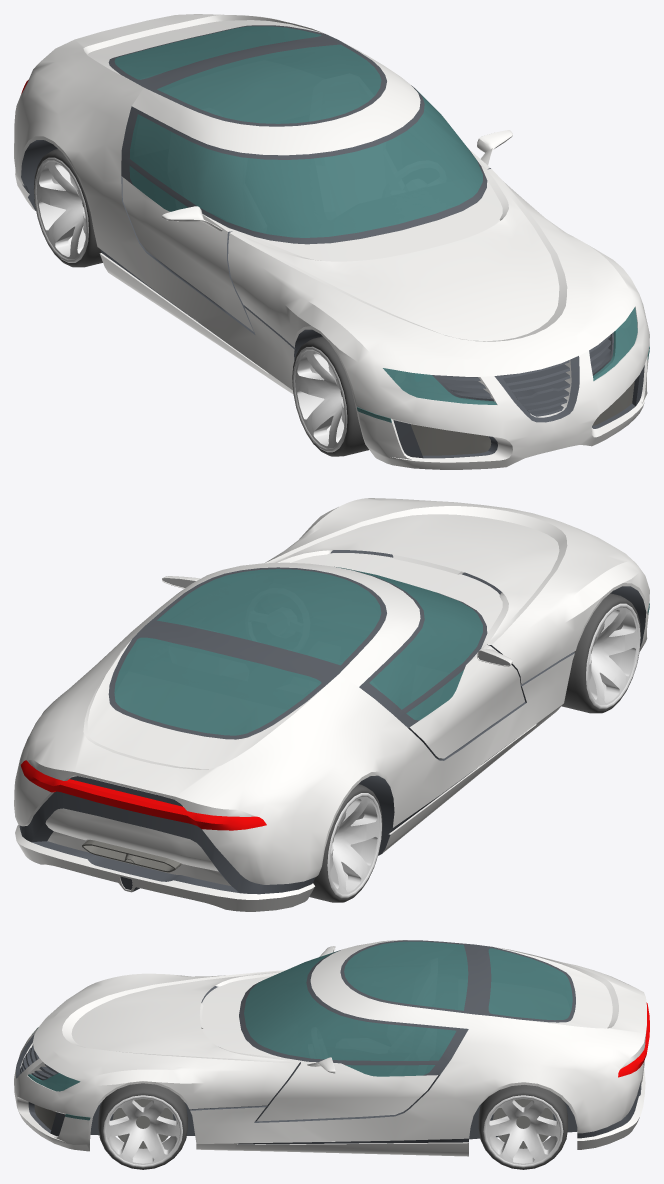
The model's file is SportsVehicle.fbx.
3 views of the same model, one above another, from view 1: azimuth 30°, elevation 25°; view 2: azimuth 150°, elevation 25°; view 3: azimuth 270°, elevation 25° (orthographic). The views are drawn at different scales.
Parts seen in each view (by area): view 1: MainMesh, RightFrontWheel, RightRearWheel; view 2: MainMesh, RightFrontWheel, RightRearWheel, BrakeLight; view 3: MainMesh, LeftFrontWheel, LeftRearWheel, BrakeLight.
Boxes of the visible parts, box(x1,y1,x2,y2) form: MainMesh: box(14, 14, 649, 469); RightFrontWheel: box(292, 336, 368, 456); RightRearWheel: box(33, 149, 102, 267); MainMesh: box(14, 498, 649, 911); RightFrontWheel: box(562, 593, 640, 713); RightRearWheel: box(309, 784, 382, 902); BrakeLight: box(20, 760, 266, 830); MainMesh: box(14, 940, 646, 1156); LeftFrontWheel: box(98, 1083, 187, 1169); LeftRearWheel: box(478, 1085, 567, 1169); BrakeLight: box(618, 1002, 649, 1077).
Bounding box in the file's own units: 218 × 122 × 468.
